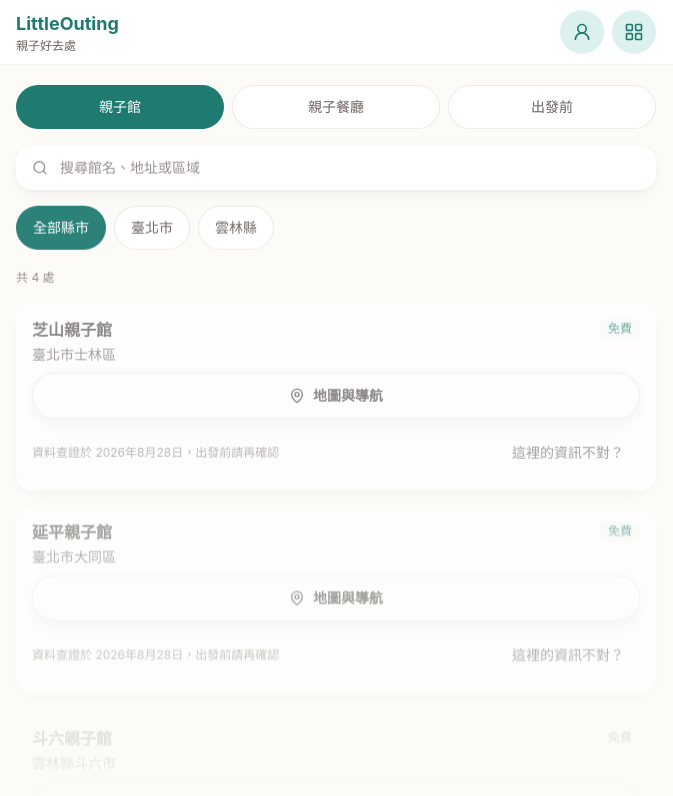
Scenario: 各縣市使用規則 › 查證過的縣市把費用、年齡、預約、戶籍四件事講清楚
The width and height of the screenshot is (673, 796).
Click the button "臺北市" at (152, 228), box [114,206,190,250]
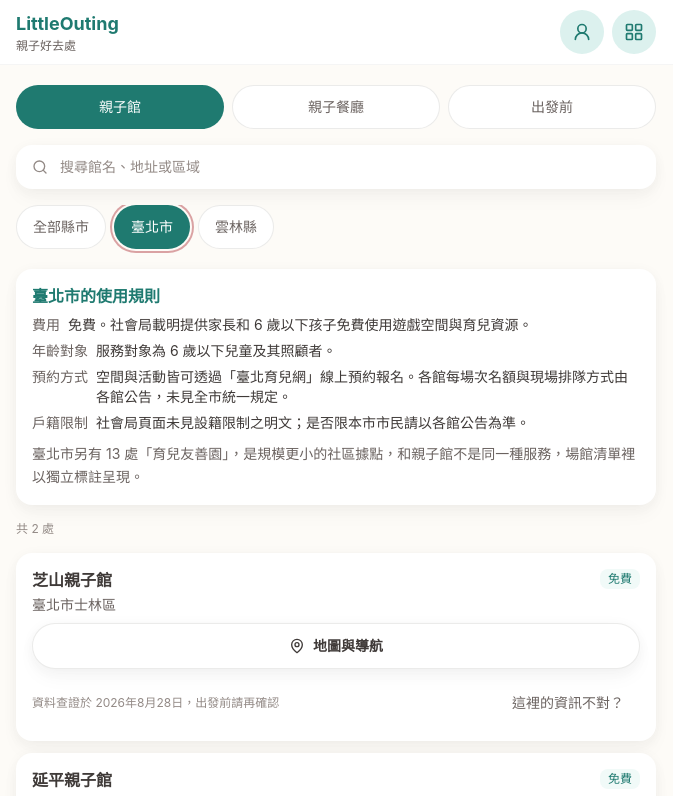
Check: the text "費用" is shown, box [32,315,60,335]
Check: the text "年齡對象" is shown, box [32,341,88,361]
Check: the text "預約方式" is shown, box [32,368,88,385]
